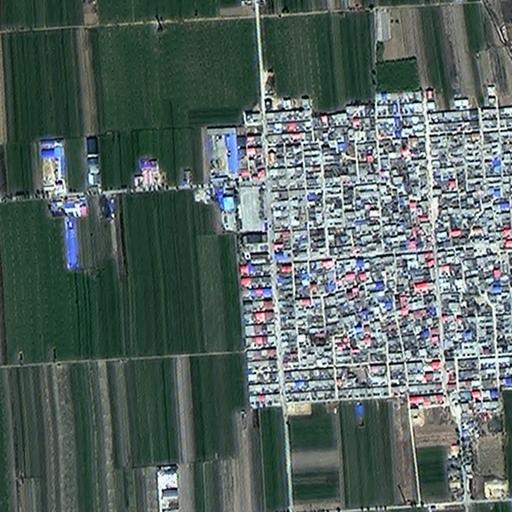school: (238, 181, 270, 264)
